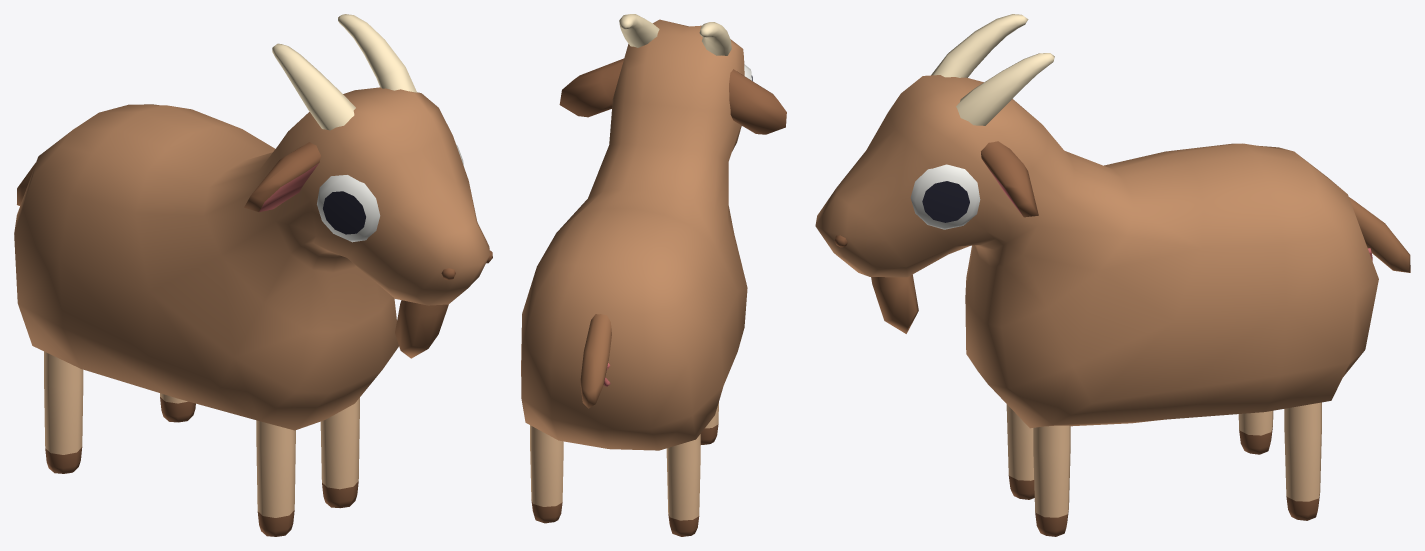
File: Goat.glb
3 renders of one model, left to right at view 1: azimuth 30°, elevation 25°; view 2: azimuth 150°, elevation 25°; view 3: azimuth 270°, elevation 25°, orthographic. The views are drawn at different scales.
Visible parts, largest first — view 1: Goat; view 2: Goat; view 3: Goat.
Boxes of the visible parts, x1=… form: Goat: x1=14, y1=14, x2=492, y2=536; Goat: x1=521, y1=14, x2=786, y2=536; Goat: x1=815, y1=14, x2=1410, y2=536.
Bounding box in the file's own units: 1.43 × 2.34 × 2.61.
Materials: 1 (1 with a texture image).
